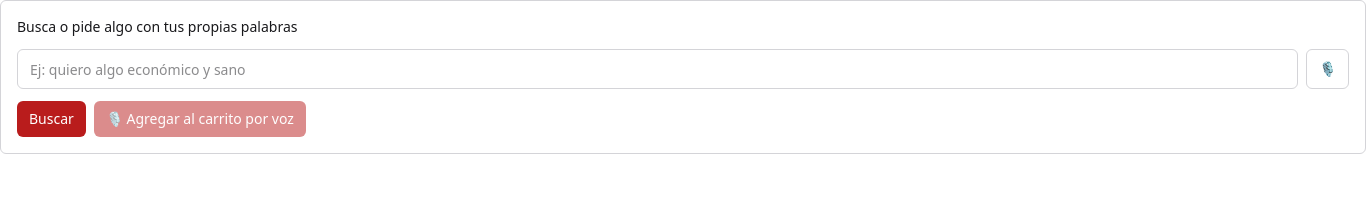
BusquedaPorVoz · texto (HU-06) › renderiza sin resultados sin sustituir por productos parciales
Type "hamburguesa" into the field labelled "Busca o pide algo con tus propias palabras" at (658, 69), box [17,49,1298,89]
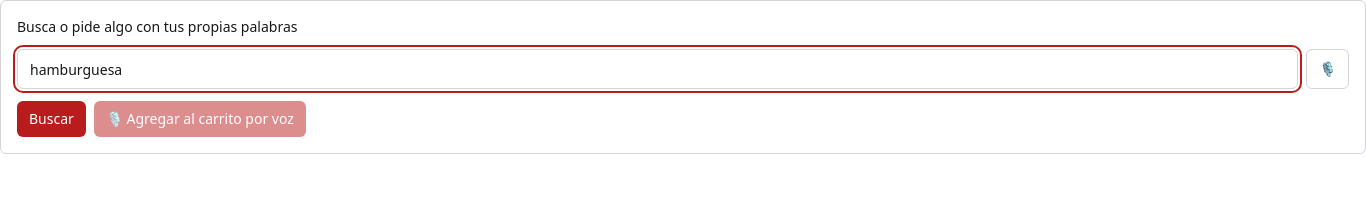
Click the button "Buscar" at (51, 119), box [17,101,86,137]
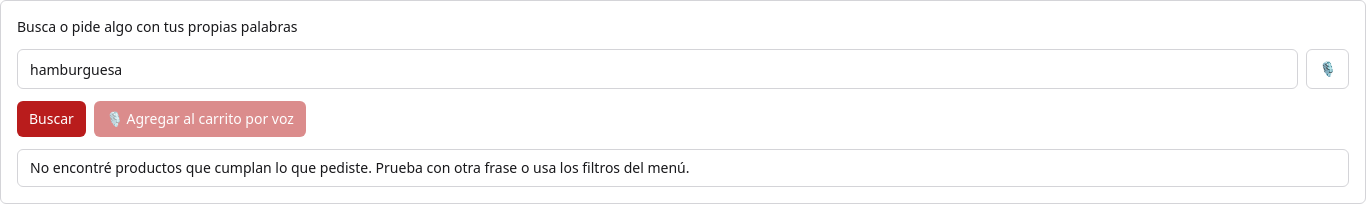
Expected: the text "No encontré productos" is shown, [30,158,690,177]
